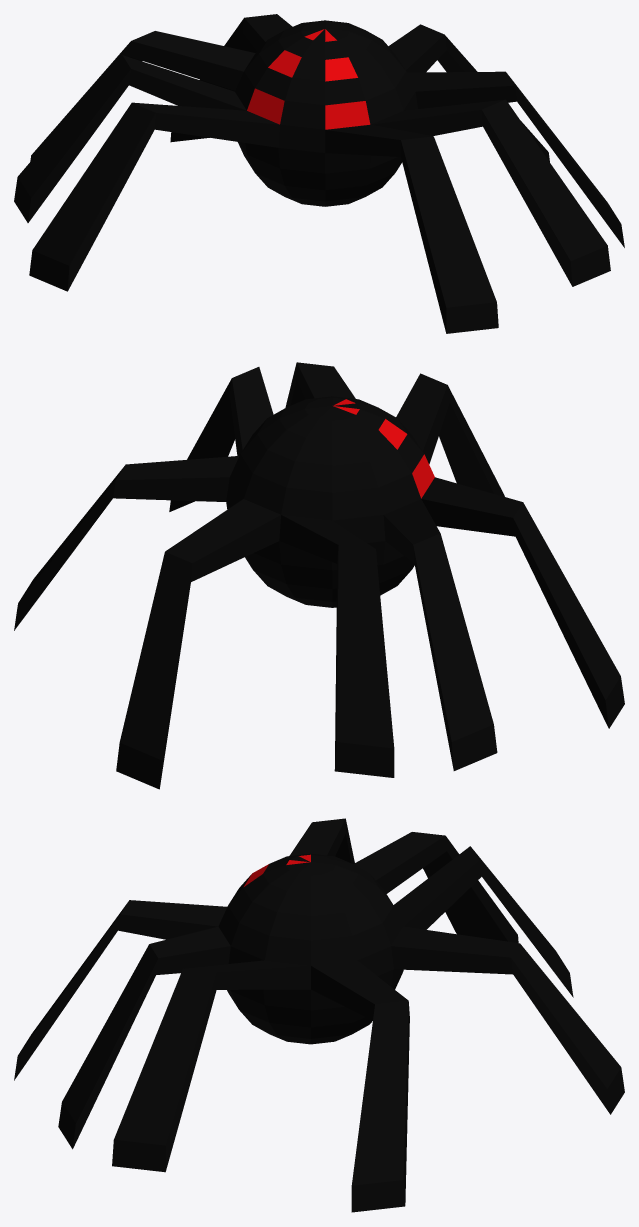
Rendered from Spider.fbx.
3 views of the same model, one above another, from view 1: azimuth 30°, elevation 25°; view 2: azimuth 150°, elevation 25°; view 3: azimuth 270°, elevation 25° (orthographic). The views are drawn at different scales.
Visible parts, largest first — view 1: Sphere; view 2: Sphere; view 3: Sphere.
Part boxes in pixels (bbox=[...]): Sphere: bbox=[14, 14, 624, 333]; Sphere: bbox=[14, 362, 624, 789]; Sphere: bbox=[14, 818, 624, 1212].
Bounding box in the file's own units: 637 × 266 × 638.
